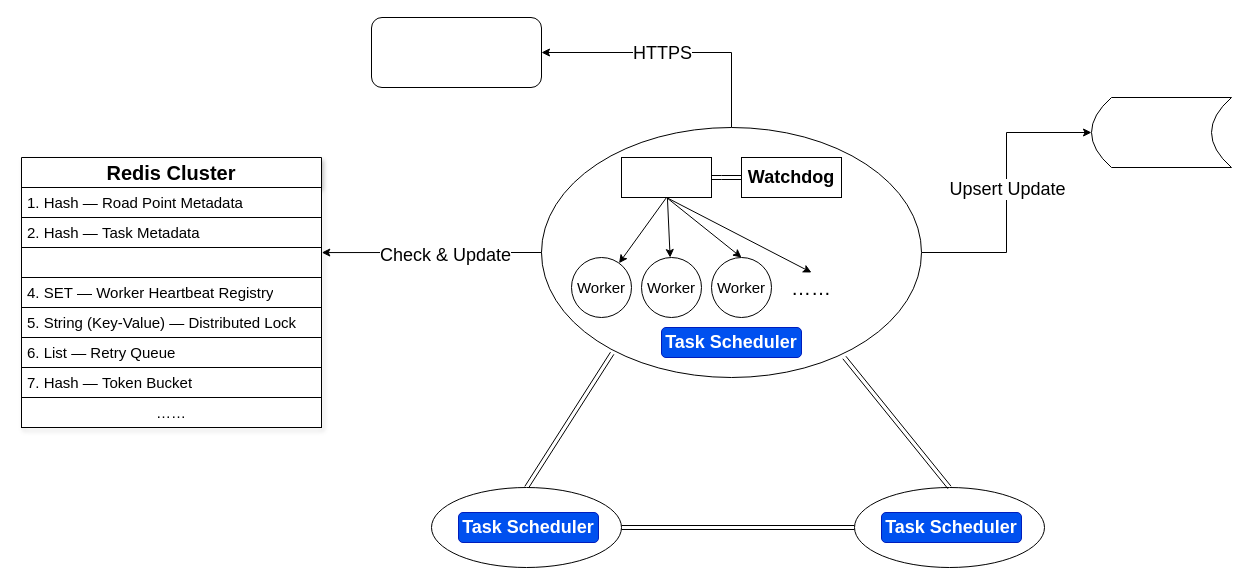
This 1249x585 diagram has some shape labels left out. The shapes that lost their labels are listed below. From the top down, each one's centre as x and y in pixels, then its label:
At point (456, 52): "Third-Party API".
At point (1161, 132): "MongoDB".
At point (666, 177): "Master".
At point (171, 262): "3. ZSet — Priority Task Queue".
